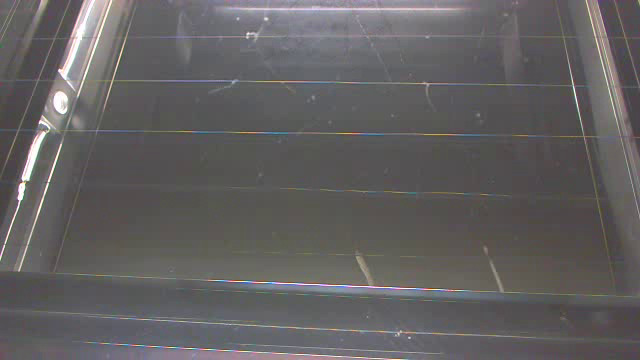alpha: (481, 243, 506, 291), (350, 246, 378, 288)
